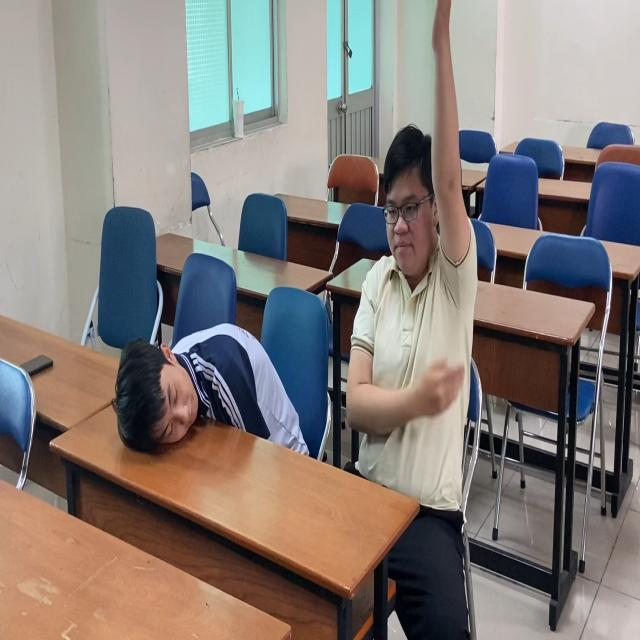raise_hand: (334, 22, 482, 473)
sleep: (109, 299, 310, 480)
